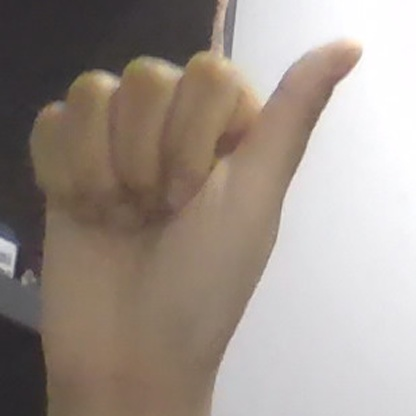A: (30, 40, 362, 374)
